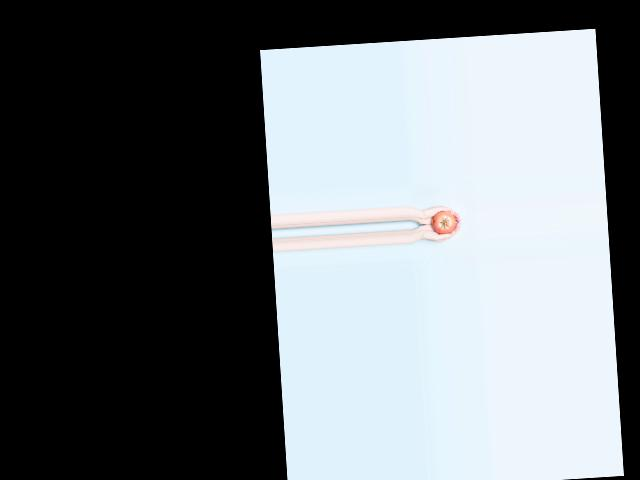tomato: (431, 210, 456, 235)
